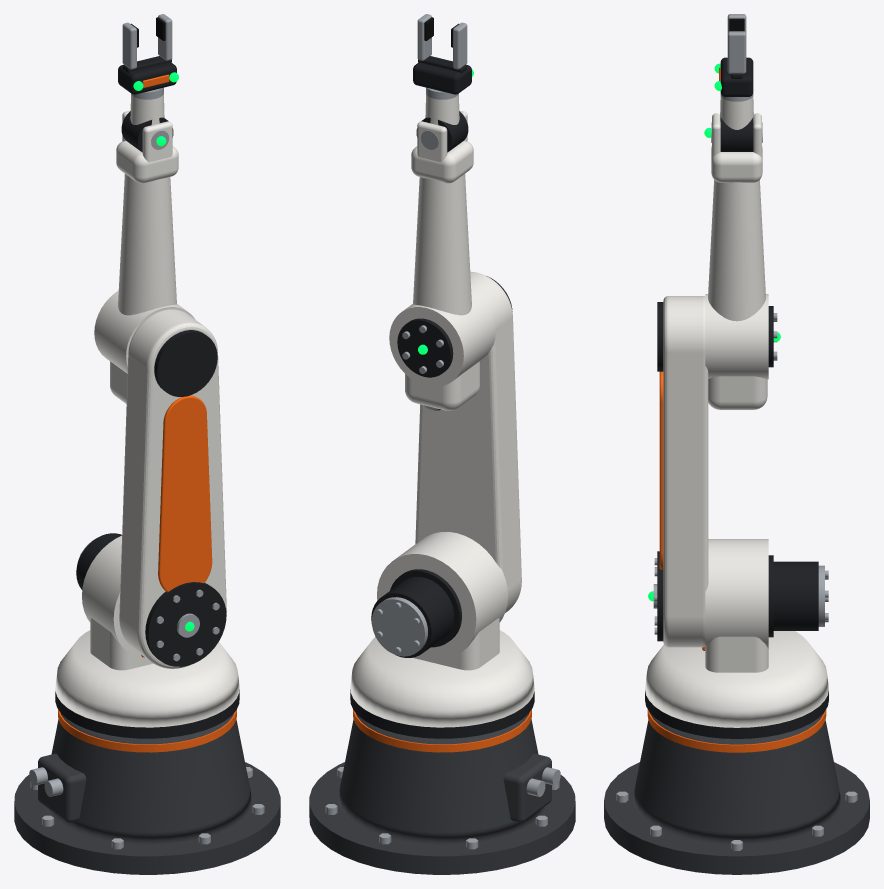
Rendered from robot_arm.glb.
3 views of the same model, side by side, from view 1: azimuth 30°, elevation 25°; view 2: azimuth 150°, elevation 25°; view 3: azimuth 270°, elevation 25° (orthographic).
Visible parts, largest first — view 1: Pedestal_base, Link2_body, Link1_body, Link3_body, Link2_accent, Link2_joint, Pedestal_joint, Pedestal_accent, Link5_joint, Pedestal_steel, Link4_body, Link1_joint (+3 smaller); view 2: Pedestal_base, Link1_body, Link2_body, Link3_body, Link1_joint, Link1_steel, Link3_joint, Pedestal_joint, Link5_joint, Pedestal_accent, Pedestal_steel, Link4_body (+2 smaller); view 3: Pedestal_base, Link1_body, Link2_body, Link3_body, Link1_joint, Pedestal_joint, Pedestal_accent, Link2_joint, Link5_joint, Link2_accent, Link4_joint, Link4_body (+3 smaller).
Part boxes in pixels (x1,y1,x2,y2): Pedestal_base: (14,712,280,874); Link2_body: (119,309,226,668); Link1_body: (55,535,239,727); Link3_body: (94,110,195,403); Link2_accent: (158,395,212,592); Link2_joint: (145,330,226,666); Pedestal_joint: (55,689,239,738); Pedestal_accent: (58,709,236,752); Link5_joint: (118,56,176,94); Pedestal_steel: (29,767,264,849); Link4_body: (130,93,164,124); Link1_joint: (76,533,121,589); Pedestal_base: (309,712,575,874); Link1_body: (350,532,534,727); Link2_body: (415,271,521,612); Link3_body: (389,110,495,410); Link1_joint: (371,569,461,657); Link1_steel: (371,597,427,656); Link3_joint: (397,318,453,410); Pedestal_joint: (350,689,534,738); Link5_joint: (413,56,471,94); Pedestal_accent: (353,709,531,752); Pedestal_steel: (325,767,560,849); Link4_body: (425,93,459,124); Pedestal_base: (604,713,869,874); Link1_body: (645,539,828,727); Link2_body: (663,296,708,647); Link3_body: (705,113,768,409); Link1_joint: (768,555,818,637); Pedestal_joint: (645,690,828,738); Pedestal_accent: (647,709,826,752); Link2_joint: (657,302,663,641); Link5_joint: (720,57,753,96); Link2_accent: (659,371,663,569); Link4_joint: (720,117,753,151); Link4_body: (720,96,753,129).
Size of the model in its own units: 2.6 by 8.58 by 2.6.
